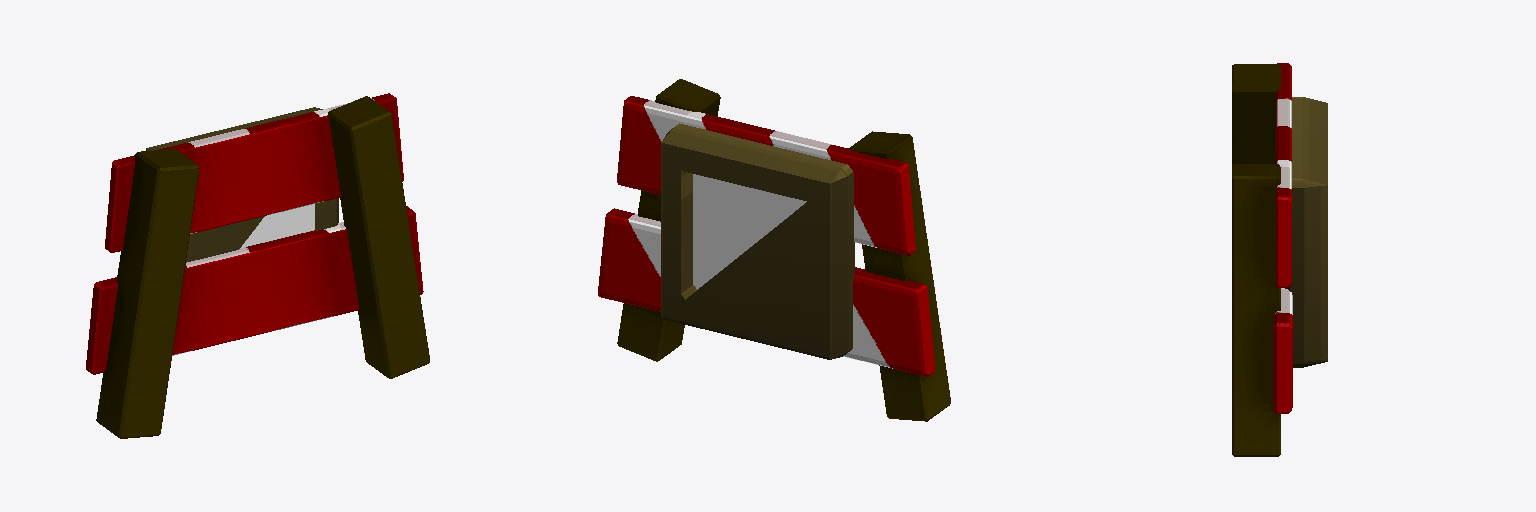
3 renders of one model, left to right at view 1: azimuth 30°, elevation 25°; view 2: azimuth 150°, elevation 25°; view 3: azimuth 270°, elevation 25°, orthographic.
Visible parts, largest first — view 1: barrierTriangle.002_Cube.033, barrierShapes.007_Cube.040, barrierShapes.008_Cube.041; view 2: barrierTriangle.002_Cube.033, barrierShapes.007_Cube.040, barrierShapes.008_Cube.041; view 3: barrierTriangle.002_Cube.033, barrierShapes.007_Cube.040.
Part boxes in pixels (x1,y1,x2,y2): barrierTriangle.002_Cube.033: (86,93,429,438); barrierShapes.007_Cube.040: (146,107,338,262); barrierShapes.008_Cube.041: (241,204,314,247); barrierTriangle.002_Cube.033: (598,79,950,421); barrierShapes.007_Cube.040: (661,123,854,359); barrierShapes.008_Cube.041: (693,174,806,289); barrierTriangle.002_Cube.033: (1232,63,1292,456); barrierShapes.007_Cube.040: (1285,97,1327,367).
Bounding box in the file's own units: 2.26 × 1.74 × 0.571.
3 materials, 2 textured.